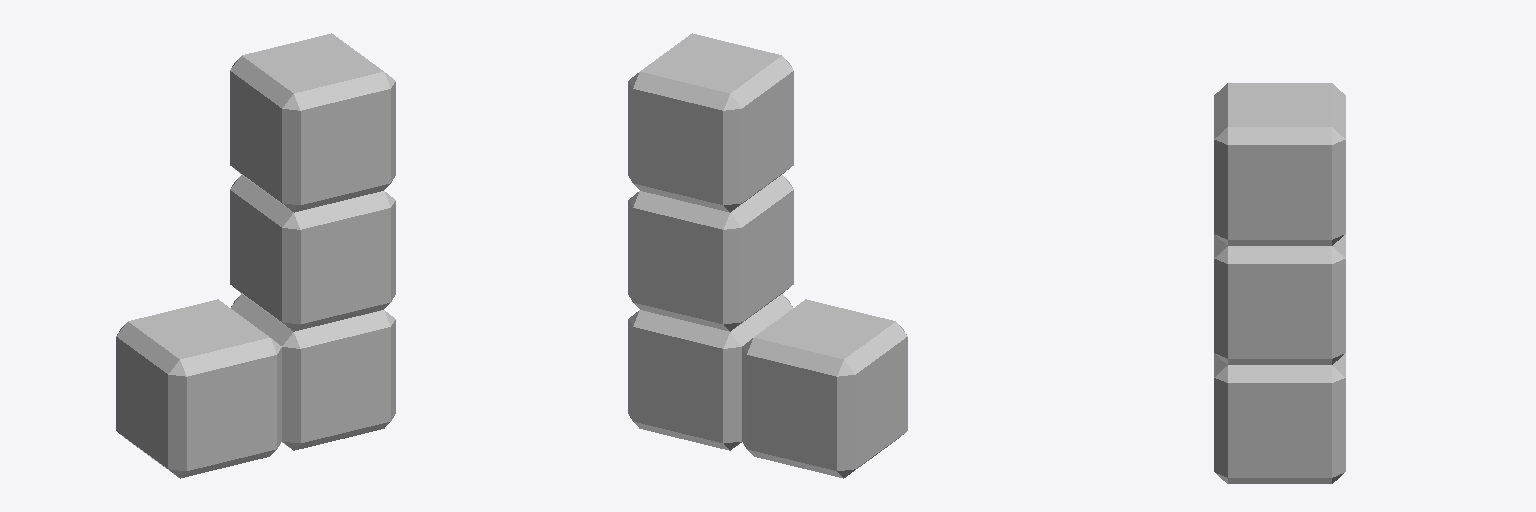
File: primitive_3.obj
The picture shows the model from 3 angles: view 1: azimuth 30°, elevation 25°; view 2: azimuth 150°, elevation 25°; view 3: azimuth 270°, elevation 25°; orthographic projection.
Visible parts, largest first — view 1: Cube, Cube.002, Cube.001, Cube.003; view 2: Cube, Cube.002, Cube.001, Cube.003; view 3: Cube.002, Cube.001, Cube.003.
Part boxes in pixels (left/top/right/bottom): Cube: left=116, top=299, right=281, bottom=478; Cube.002: left=230, top=33, right=395, bottom=212; Cube.001: left=230, top=175, right=395, bottom=331; Cube.003: left=231, top=294, right=395, bottom=450; Cube: left=742, top=299, right=907, bottom=478; Cube.002: left=628, top=33, right=793, bottom=212; Cube.001: left=628, top=175, right=793, bottom=331; Cube.003: left=628, top=294, right=792, bottom=450; Cube.002: left=1214, top=83, right=1345, bottom=245; Cube.001: left=1214, top=234, right=1345, bottom=364; Cube.003: left=1214, top=353, right=1345, bottom=483.
Bounding box in the file's own units: 4 × 6 × 2.